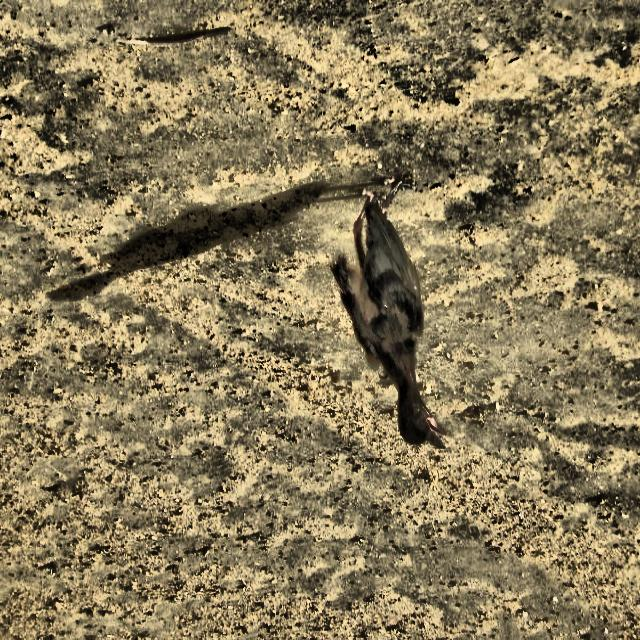crow: (331, 188, 468, 482)
